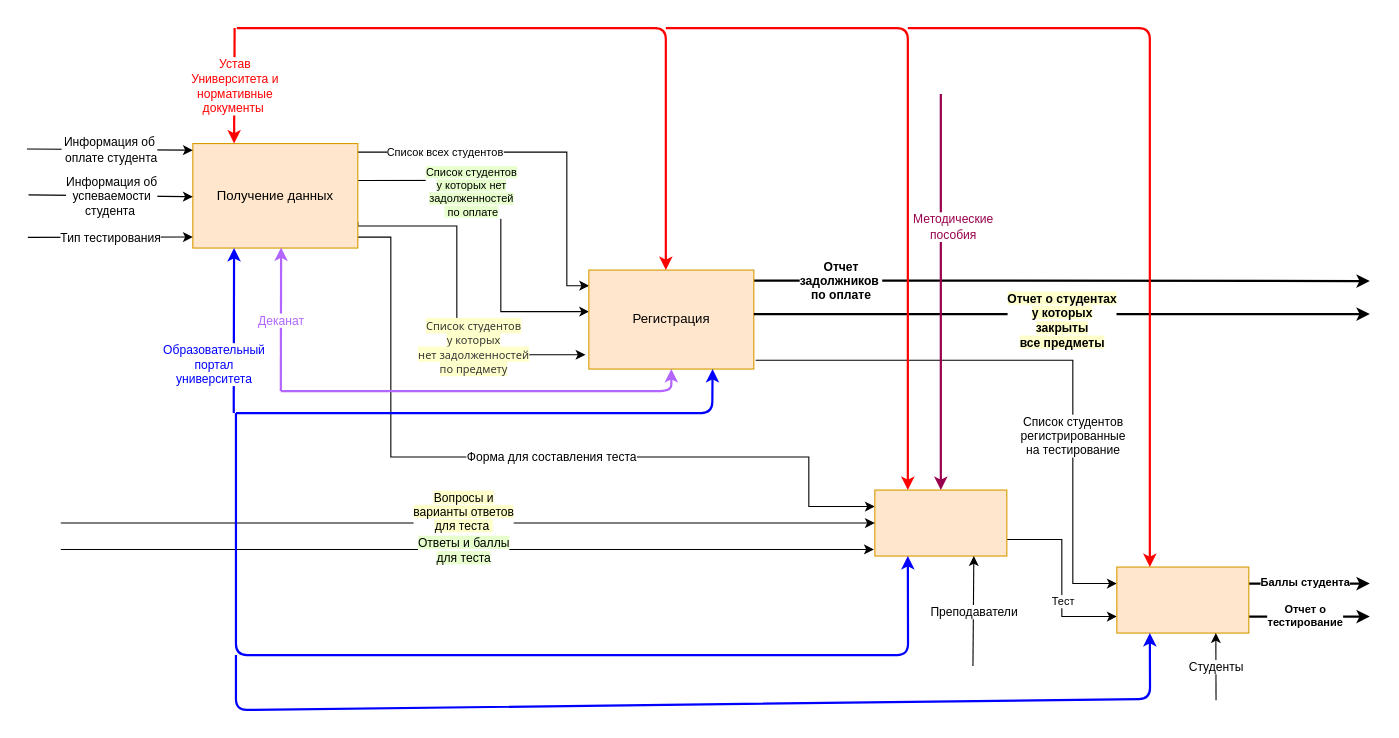
Some shapes in this 1399 by 738 pixel diagram are drawn without their labels. The shapes that lost their labels are listed below. From the top down, each one's box as (x1, y1, x2, y2) in pixels, then its label:
(874, 489, 1007, 556): Составление теста
(1116, 566, 1249, 633): Тесстирование
